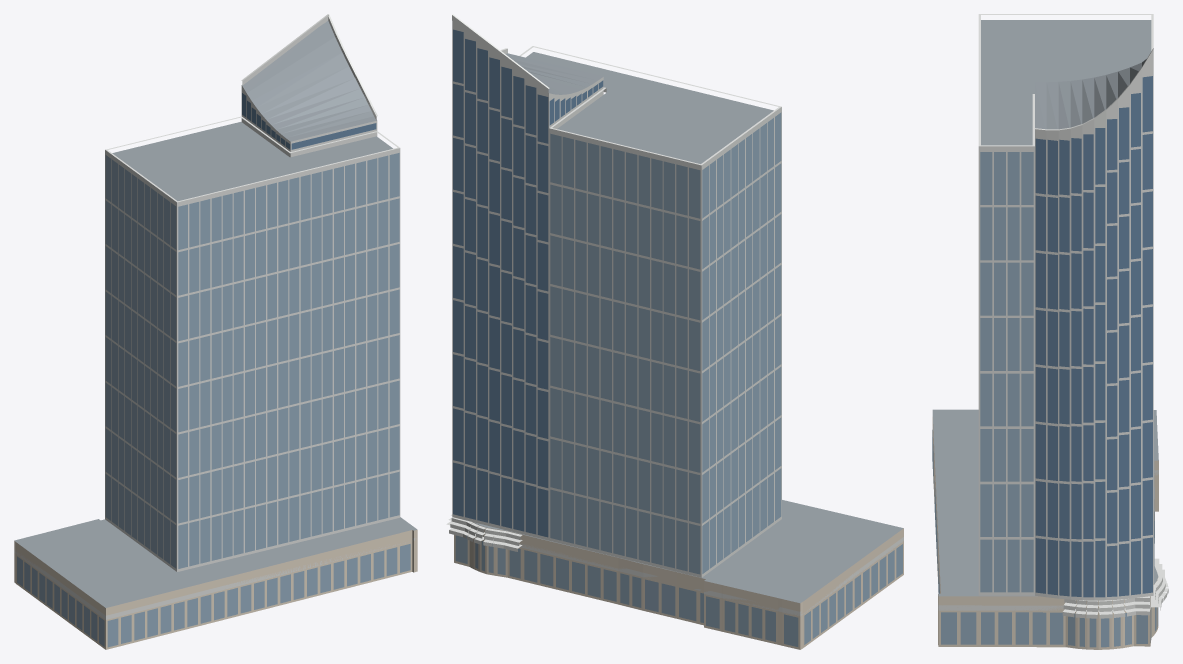
File: clt-300-south-tryon.glb
3 views of the same model, side by side, from view 1: azimuth 30°, elevation 25°; view 2: azimuth 150°, elevation 25°; view 3: azimuth 270°, elevation 25° (orthographic). The views are drawn at different scales.
Parts seen in each view (by area): view 1: 300 South Tryon; view 2: 300 South Tryon; view 3: 300 South Tryon.
Part boxes in pixels (<box>): 300 South Tryon: <box>14,14,417,649</box>; 300 South Tryon: <box>446,14,903,649</box>; 300 South Tryon: <box>932,14,1168,649</box>.
Size of the model in its own units: 98.03 by 141 by 50.51.
